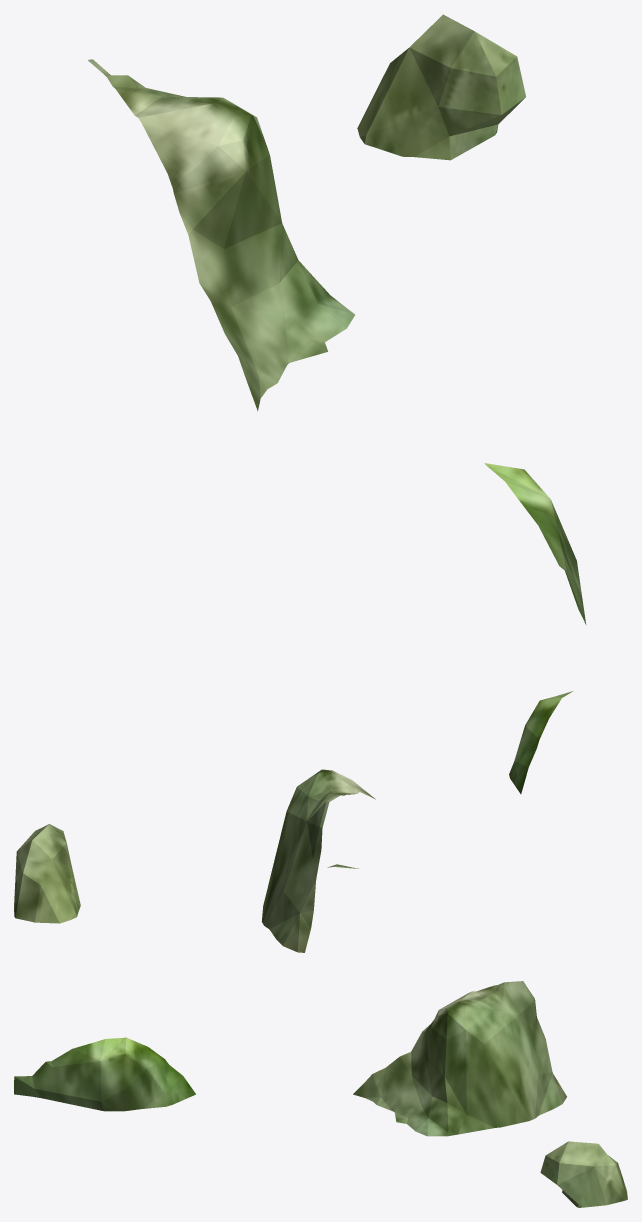
3 views of the same model, one above another, from view 1: azimuth 30°, elevation 25°; view 2: azimuth 150°, elevation 25°; view 3: azimuth 270°, elevation 25° (orthographic). The views are drawn at different scales.
Size of the model in its own units: 1.12 by 0.5112 by 2.51.
Materials: 1 (1 with a texture image).
